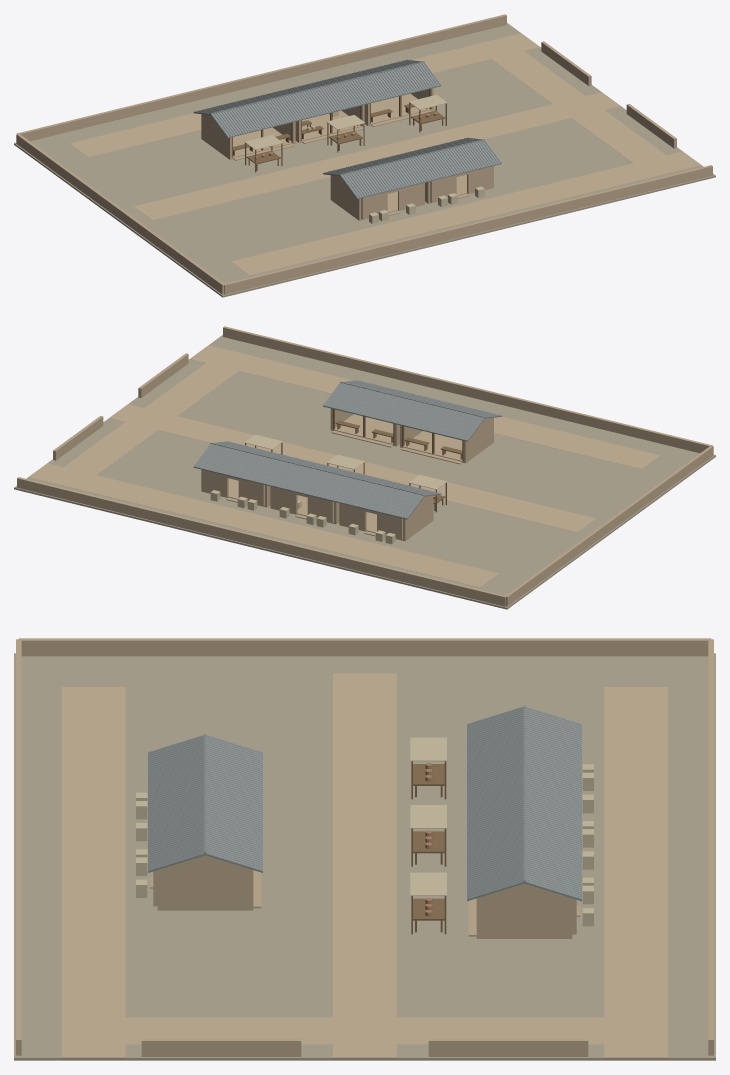
Rendered from market-A-N2-C2-including-orphans.glb.
3 views of the same model, one above another, from view 1: azimuth 30°, elevation 25°; view 2: azimuth 150°, elevation 25°; view 3: azimuth 270°, elevation 25° (orthographic). The views are drawn at different scales.
Parts seen in each view (by area): view 1: sample_ground, route_rearS, route_public, route_east, boundary_-21.7, boundary_21.7, north_shared_roofbed_-1, route_rearN, south_shared_roofbed_-1, boundary_west, N3_floor, N1_floor (+10 smaller); view 2: sample_ground, route_rearN, route_east, route_public, boundary_21.7, boundary_-21.7, north_shared_roofbed_1, route_rearS, south_shared_roofbed_1, boundary_west, S1_floor, S2_floor (+11 smaller); view 3: sample_ground, route_public, route_rearN, route_rearS, route_east, boundary_west, north_shared_roofbed_-1, north_shared_roofbed_1, south_shared_roofbed_1, south_shared_roofbed_-1, S2_sidewall.001, N3_sidewall.001 (+12 smaller).
Boxes of the visible parts, x1=… form: sample_ground: x1=14, y1=23, x2=715, y2=297; route_rearS: x1=231, y1=163, x2=651, y2=275; route_public: x1=134, y1=104, x2=571, y2=220; route_east: x1=472, y1=37, x2=684, y2=177; boundary_-21.7: x1=223, y1=165, x2=712, y2=294; boundary_21.7: x1=17, y1=14, x2=506, y2=141; north_shared_roofbed_-1: x1=210, y1=62, x2=441, y2=137; route_rearN: x1=69, y1=45, x2=490, y2=157; south_shared_roofbed_-1: x1=340, y1=140, x2=501, y2=199; boundary_west: x1=16, y1=133, x2=223, y2=294; N3_floor: x1=364, y1=93, x2=433, y2=125; N1_floor: x1=201, y1=127, x2=295, y2=159; sample_ground: x1=14, y1=335, x2=715, y2=609; route_rearN: x1=78, y1=475, x2=498, y2=587; route_east: x1=45, y1=349, x2=257, y2=489; route_public: x1=158, y1=416, x2=595, y2=532; boundary_21.7: x1=17, y1=477, x2=506, y2=606; boundary_-21.7: x1=223, y1=326, x2=712, y2=453; north_shared_roofbed_1: x1=193, y1=444, x2=424, y2=519; route_rearS: x1=239, y1=357, x2=660, y2=469; south_shared_roofbed_1: x1=323, y1=383, x2=484, y2=441; boundary_west: x1=506, y1=445, x2=713, y2=606; S1_floor: x1=400, y1=431, x2=493, y2=463; S2_floor: x1=330, y1=414, x2=399, y2=446; sample_ground: x1=14, y1=653, x2=715, y2=1060; route_public: x1=333, y1=673, x2=396, y2=1017; route_rearN: x1=604, y1=687, x2=667, y2=1017; route_rearS: x1=62, y1=687, x2=125, y2=1017; route_east: x1=62, y1=1017, x2=667, y2=1044; boundary_west: x1=18, y1=638, x2=711, y2=656; north_shared_roofbed_-1: x1=467, y1=708, x2=524, y2=901; north_shared_roofbed_1: x1=524, y1=708, x2=581, y2=901; south_shared_roofbed_1: x1=205, y1=736, x2=262, y2=872; south_shared_roofbed_-1: x1=148, y1=736, x2=205, y2=872; S2_sidewall.001: x1=157, y1=869, x2=253, y2=908; N3_sidewall.001: x1=476, y1=898, x2=572, y2=936.
Bounding box in the file's own units: 60 × 4.53 × 44.
